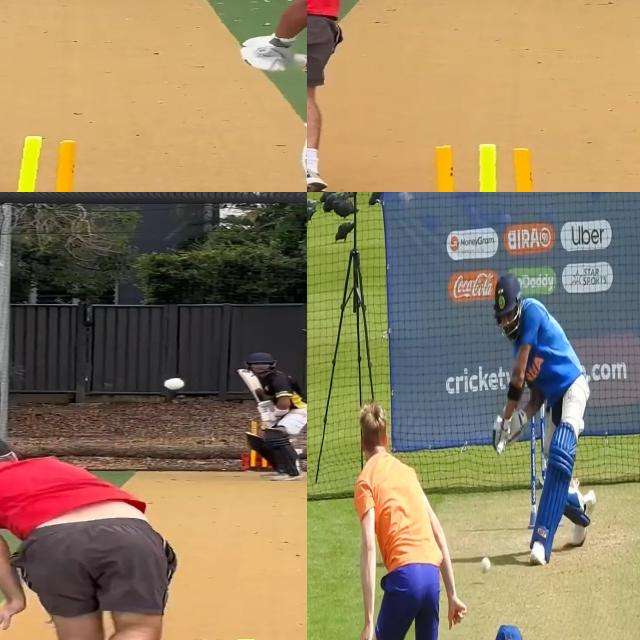Cricket ball: (163, 374, 189, 392), (481, 551, 494, 579)
Stumps: (410, 144, 546, 192), (0, 132, 102, 192)
